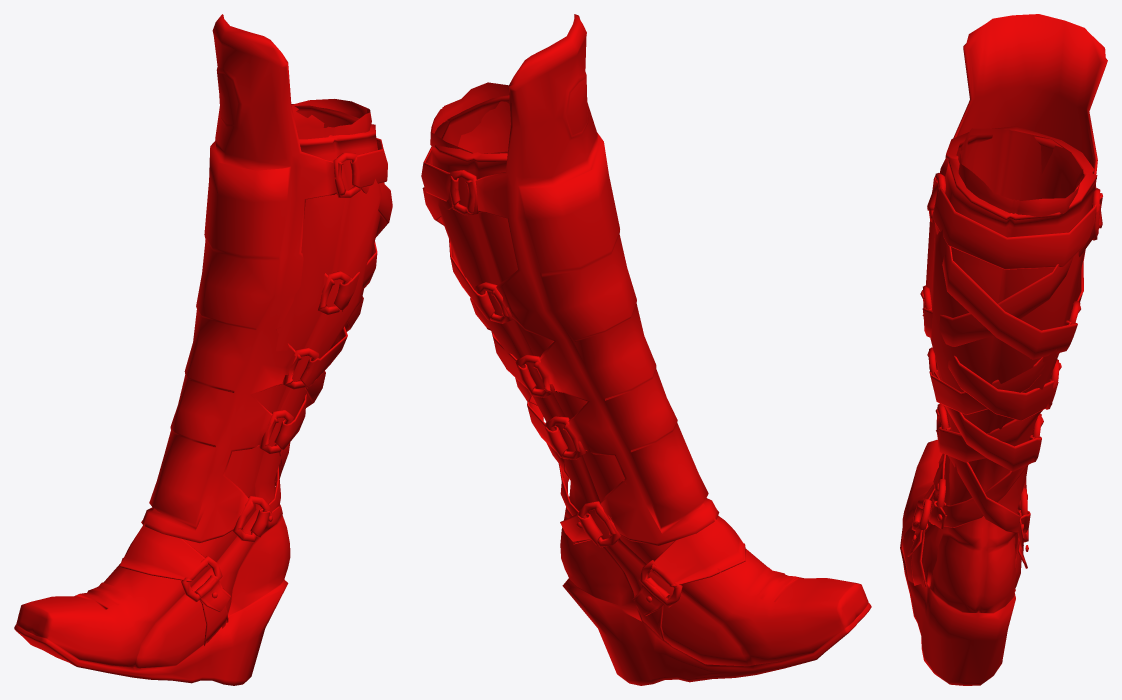
The model's file is LegLower.dae.
The picture shows the model from 3 angles, left to right: view 1: azimuth 30°, elevation 25°; view 2: azimuth 150°, elevation 25°; view 3: azimuth 270°, elevation 25°; orthographic projection. The views are drawn at different scales.
Parts seen in each view (by area): view 1: LegLower; view 2: LegLower; view 3: LegLower.
Part boxes in pixels (left/top/right/bottom): LegLower: left=14, top=14, right=392, bottom=685; LegLower: left=421, top=14, right=871, bottom=685; LegLower: left=900, top=14, right=1107, bottom=685.
Bounding box in the file's own units: 0.3956 × 0.1704 × 0.6231.
